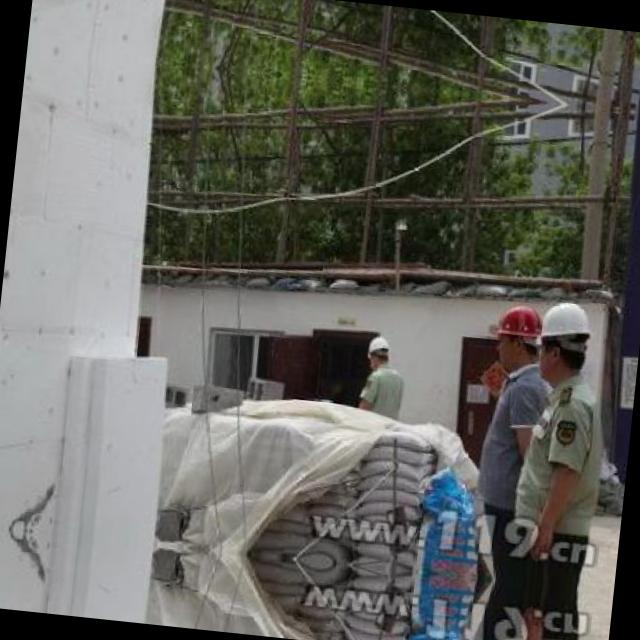helmet: (532, 294, 596, 385), (488, 302, 548, 372), (364, 333, 390, 368)
